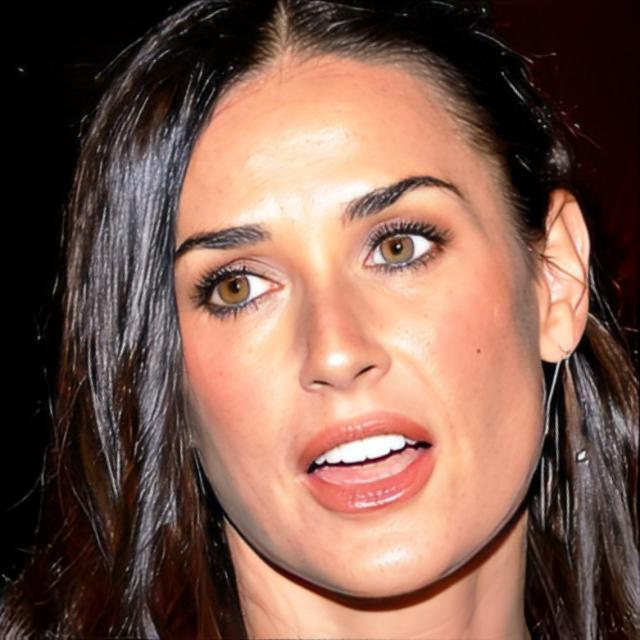surprise: (171, 51, 539, 600)
